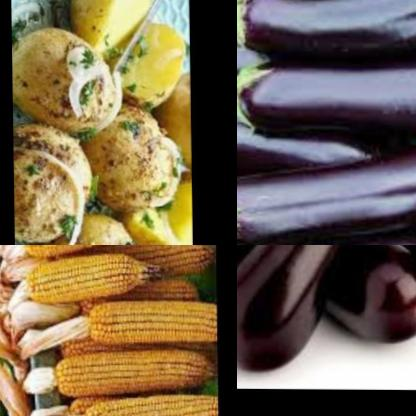corn: (49, 345, 205, 403), (79, 291, 214, 347), (18, 248, 168, 294), (97, 245, 213, 273), (74, 394, 216, 416), (16, 245, 171, 260), (135, 276, 200, 307)
eggplant: (237, 132, 416, 245), (237, 106, 398, 227), (237, 245, 395, 365), (237, 44, 416, 148), (237, 17, 394, 92), (237, 0, 416, 60), (317, 245, 416, 336), (237, 245, 336, 319), (331, 245, 416, 314), (237, 0, 381, 34)
onion: (66, 44, 112, 113)
potato: (13, 24, 130, 136), (89, 97, 183, 213), (13, 119, 97, 245), (120, 21, 190, 103), (66, 0, 159, 52), (150, 60, 192, 169), (37, 213, 143, 245), (125, 203, 192, 245)
